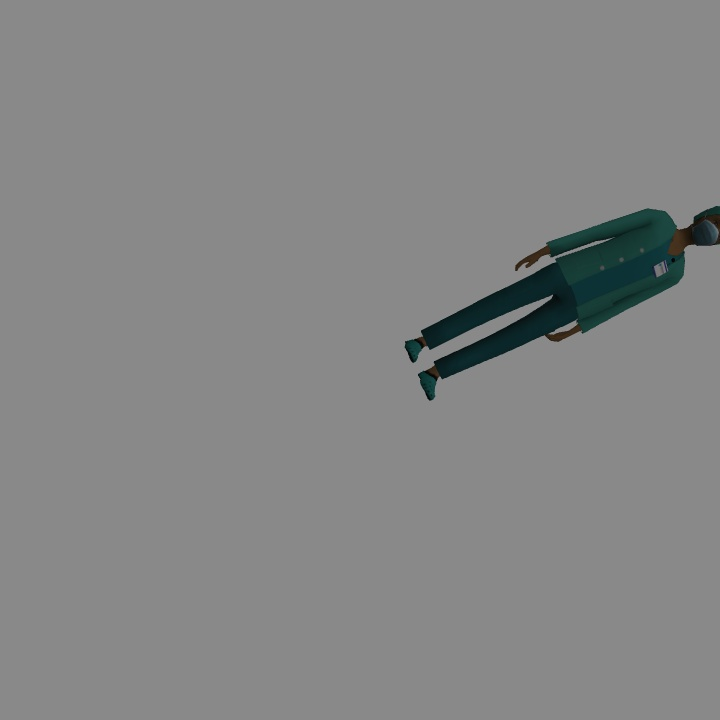victim: (404, 207, 720, 401)
